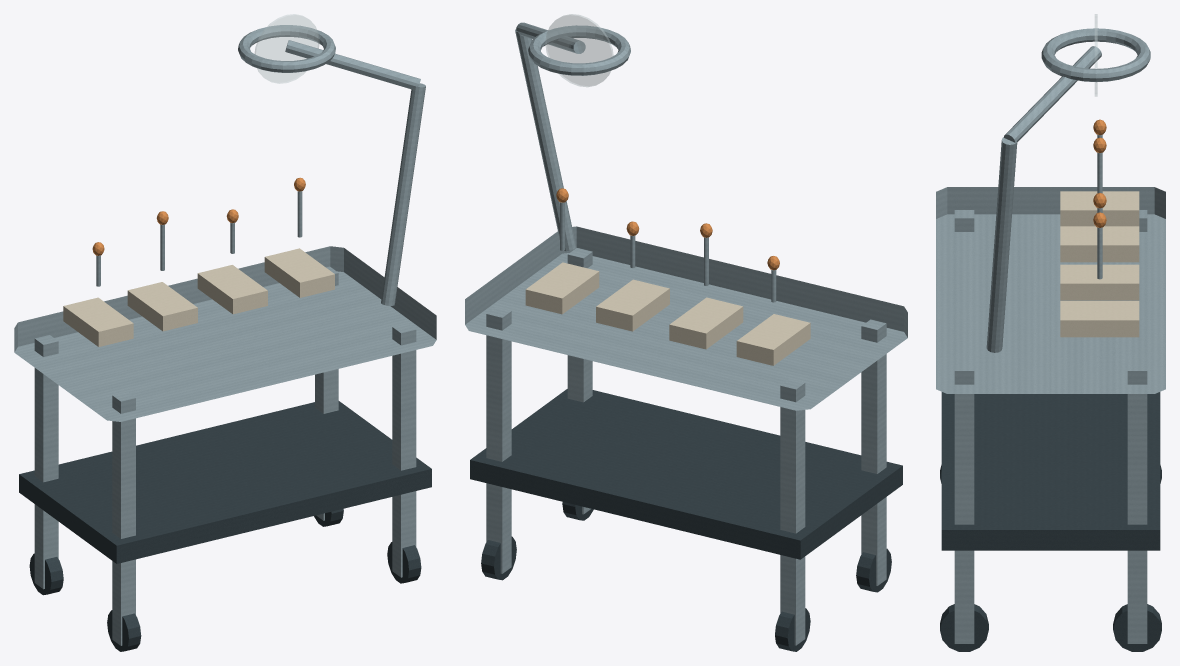
Rendered from pollination_tool_station.glb.
The picture shows the model from 3 angles, left to right: view 1: azimuth 30°, elevation 25°; view 2: azimuth 150°, elevation 25°; view 3: azimuth 270°, elevation 25°; orthographic projection. The views are drawn at different scales.
Visible parts, largest first — view 1: Lower_Shelf__graphite, Work_Surface__alloy, Cart_Frame__alloy, Maintenance_Kits__cream, Magnifier_Arm__alloy, Caster_Wheels__graphite, Magnifier__alloy, Magnifier__clear, Pollination_Brushes__alloy; view 2: Lower_Shelf__graphite, Work_Surface__alloy, Cart_Frame__alloy, Maintenance_Kits__cream, Magnifier_Arm__alloy, Caster_Wheels__graphite, Magnifier__clear, Magnifier__alloy, Pollination_Brushes__alloy; view 3: Work_Surface__alloy, Lower_Shelf__graphite, Maintenance_Kits__cream, Cart_Frame__alloy, Magnifier_Arm__alloy, Magnifier__alloy, Caster_Wheels__graphite, Pollination_Brushes__amber, Pollination_Brushes__alloy.
Boxes of the visible parts, bbox=[...] form: Lower_Shelf__graphite: bbox=[19, 401, 431, 563]; Work_Surface__alloy: bbox=[14, 246, 436, 421]; Cart_Frame__alloy: bbox=[34, 266, 416, 645]; Maintenance_Kits__cream: bbox=[63, 248, 334, 346]; Magnifier_Arm__alloy: bbox=[285, 40, 425, 305]; Caster_Wheels__graphite: bbox=[29, 509, 421, 651]; Magnifier__alloy: bbox=[238, 25, 335, 72]; Magnifier__clear: bbox=[255, 14, 319, 83]; Pollination_Brushes__alloy: bbox=[96, 191, 302, 286]; Lower_Shelf__graphite: bbox=[470, 389, 902, 559]; Work_Surface__alloy: bbox=[465, 226, 907, 410]; Cart_Frame__alloy: bbox=[486, 248, 886, 645]; Maintenance_Kits__cream: bbox=[525, 262, 810, 365]; Magnifier_Arm__alloy: bbox=[515, 22, 585, 251]; Caster_Wheels__graphite: bbox=[481, 502, 891, 651]; Magnifier__clear: bbox=[545, 14, 613, 86]; Magnifier__alloy: bbox=[528, 25, 630, 75]; Pollination_Brushes__alloy: bbox=[560, 202, 776, 302]; Work_Surface__alloy: bbox=[936, 187, 1165, 393]; Lower_Shelf__graphite: bbox=[941, 392, 1160, 550]; Maintenance_Kits__cream: bbox=[1060, 191, 1139, 337]; Cart_Frame__alloy: bbox=[954, 210, 1147, 643]; Magnifier_Arm__alloy: bbox=[986, 46, 1101, 352]; Magnifier__alloy: bbox=[1041, 28, 1150, 82]; Caster_Wheels__graphite: bbox=[940, 465, 1161, 651]; Pollination_Brushes__amber: bbox=[1093, 119, 1106, 227]; Pollination_Brushes__alloy: bbox=[1097, 134, 1102, 279].
Size of the model in its own units: 1.19 by 1.76 by 0.61.
Materials: 5 (4 with a texture image).
